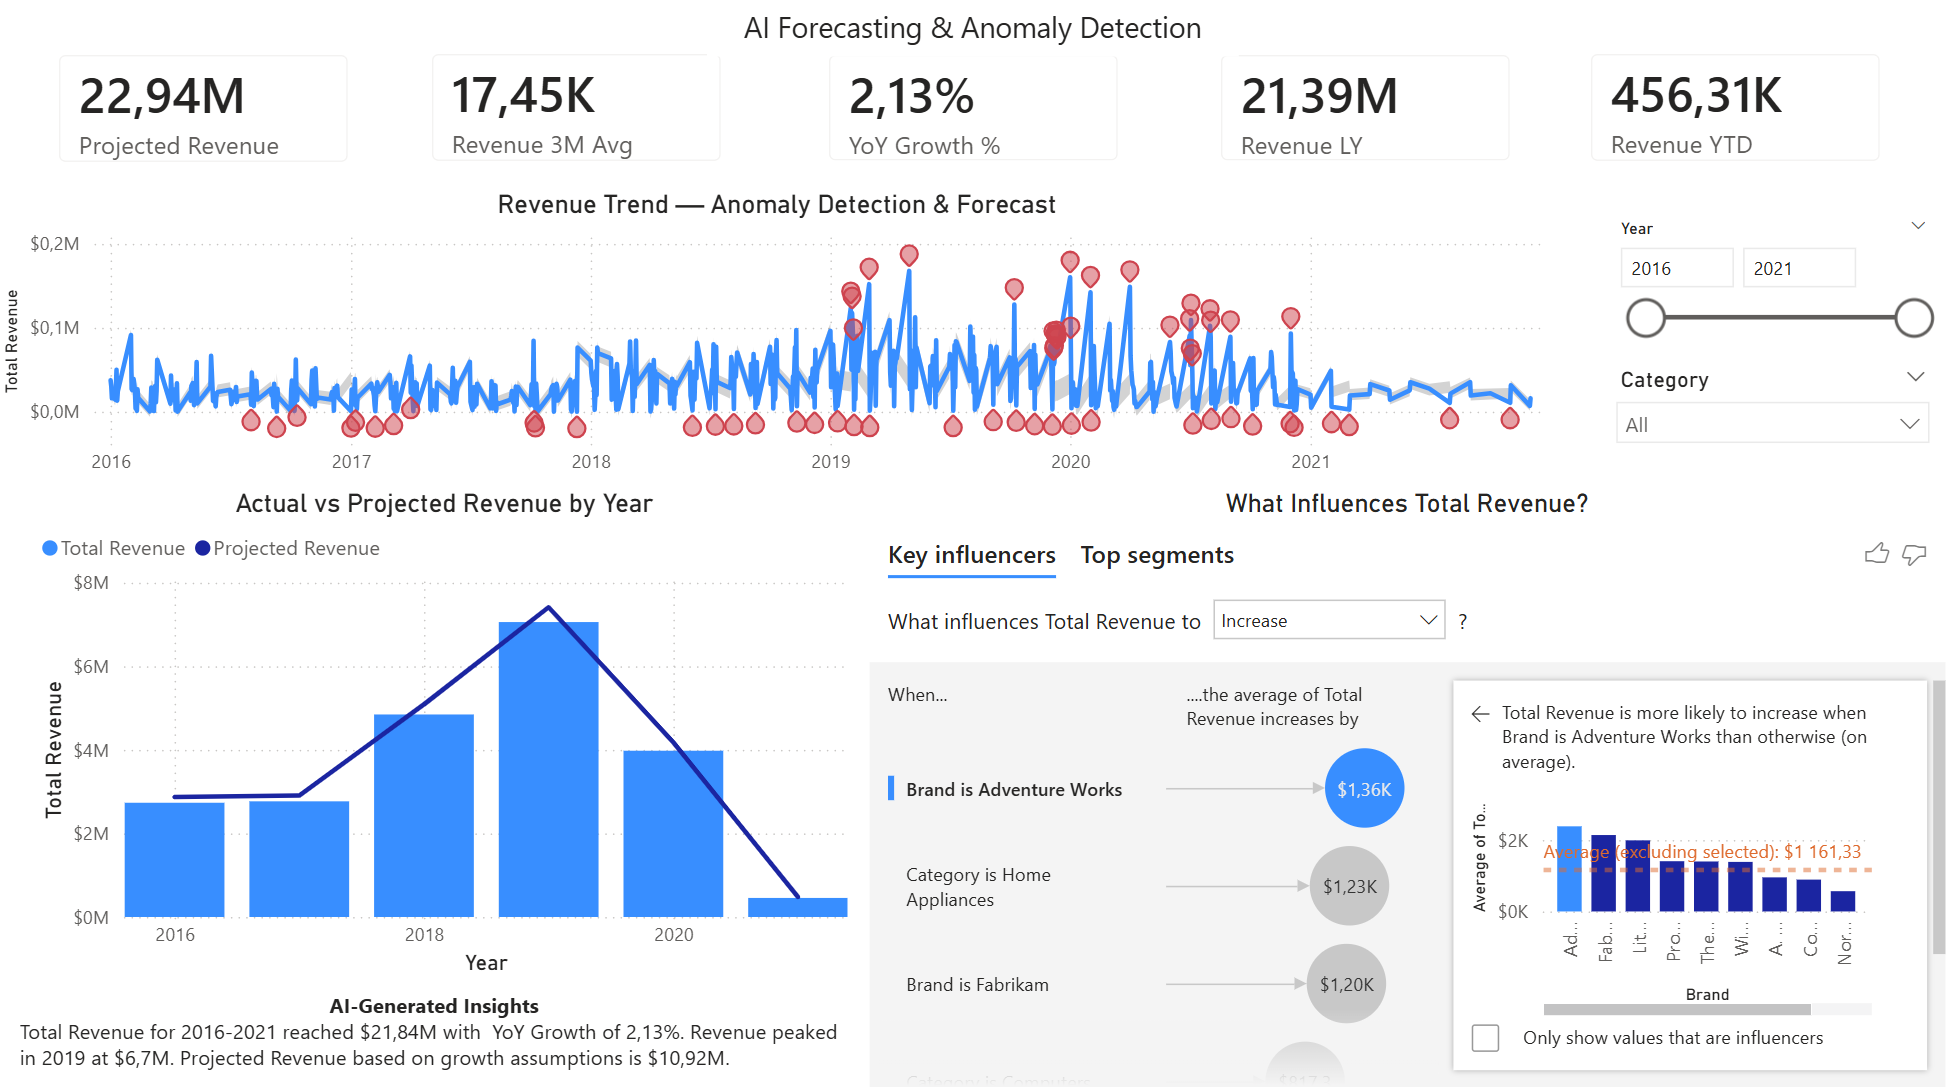

Layout of this report page (visuals, bound fields, positions):
{"tool":"powerbi","page":{"name":"AI Forecasting & Anomaly Detection","canvas":[1280,720],"ordinal":4},"visuals":[{"type":"cardVisual","fields":{"Data":["Sales.Projected Revenue"]},"box":[24.2,25.6,223.2,104.4],"z":1000},{"type":"cardVisual","fields":{"Data":["Sales.Revenue LY"]},"box":[784.4,25.6,223.2,103.7],"z":2000},{"type":"cardVisual","fields":{"Data":["Sales.YoY Growth %"]},"box":[528,25.6,223.2,103.7],"z":3000},{"type":"cardVisual","fields":{"Data":["Sales.Revenue 3M Avg"]},"box":[268.2,24.9,223.2,104.4],"z":4000},{"type":"cardVisual","fields":{"Data":["Sales.Revenue YTD"]},"box":[1027,24.9,223.2,104.4],"z":5000},{"type":"lineChart","title":"Revenue Trend — Anomaly Detection & Forecast","fields":{"Y":["Sales.Total Revenue"],"Category":["Calendar.Date"]},"box":[0,129.9,1022.2,196.3],"z":6000},{"type":"lineClusteredColumnComboChart","title":"Actual vs Projected Revenue by Year","fields":{"Category":["Calendar.Year"],"Y":["Sales.Total Revenue"],"Y2":["Sales.Projected Revenue"]},"box":[24.4,326.1,538.3,324.1],"z":7000},{"type":"slicer","fields":{"Values":["Calendar.Year"]},"box":[1050.2,144.4,225.1,96.9],"z":8000},{"type":"slicer","fields":{"Values":["Products.Category"]},"box":[1050.2,241.4,225.1,58.3],"z":9000},{"type":"keyDriversVisual","title":"What Influences Total Revenue?","fields":{"Target":["Sales.Total Revenue"],"ExplainBy":["Products.Category","Customers.Country","Products.Brand","Calendar.Year","Customers.Gender","Sales.Order Date"]},"box":[566.4,325.6,713.6,394.1],"z":10000},{"type":"textbox","box":[10.2,650.2,552.5,69.8],"z":10001},{"type":"textbox","box":[465.1,6.8,347.8,36.6],"z":10002}]}

Visuals, with their boxes in screenshot pixels (x1, y1, x2, y2), scaled from the page's 1280x720 canvas onto the 1950x1087 screenshot:
cardVisual - Sales.Projected Revenue: x1=37, y1=39, x2=377, y2=196
cardVisual - Sales.Revenue LY: x1=1195, y1=39, x2=1535, y2=195
cardVisual - Sales.YoY Growth %: x1=804, y1=39, x2=1144, y2=195
cardVisual - Sales.Revenue 3M Avg: x1=409, y1=38, x2=749, y2=195
cardVisual - Sales.Revenue YTD: x1=1565, y1=38, x2=1905, y2=195
"Revenue Trend — Anomaly Detection & Forecast" lineChart: x1=0, y1=196, x2=1557, y2=492
"Actual vs Projected Revenue by Year" lineClusteredColumnComboChart: x1=37, y1=492, x2=857, y2=982
slicer - Calendar.Year: x1=1600, y1=218, x2=1943, y2=364
slicer - Products.Category: x1=1600, y1=364, x2=1943, y2=452
"What Influences Total Revenue?" keyDriversVisual: x1=863, y1=492, x2=1949, y2=1086
textbox: x1=16, y1=982, x2=857, y2=1086
textbox: x1=709, y1=10, x2=1238, y2=66
